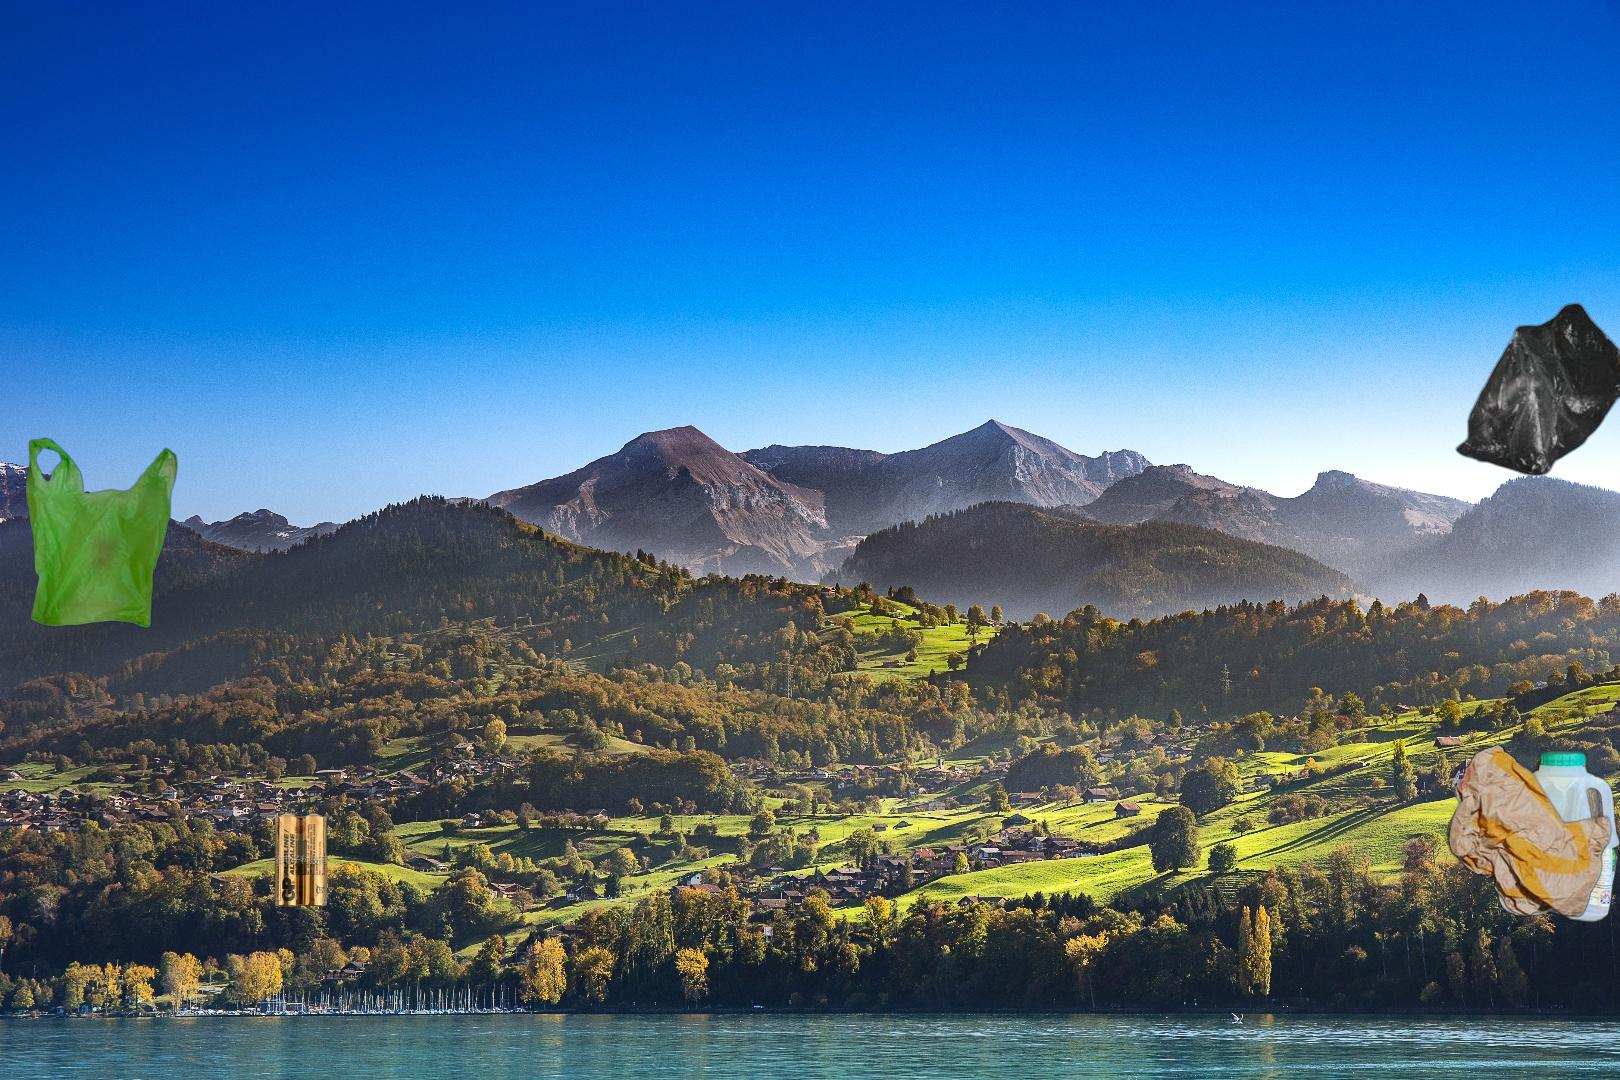battery: (272, 810, 330, 910)
paper-bag: (1444, 693, 1620, 920)
plastic-bag: (23, 435, 180, 630), (1452, 300, 1620, 479)
plastic-bottles: (1487, 744, 1620, 929)
